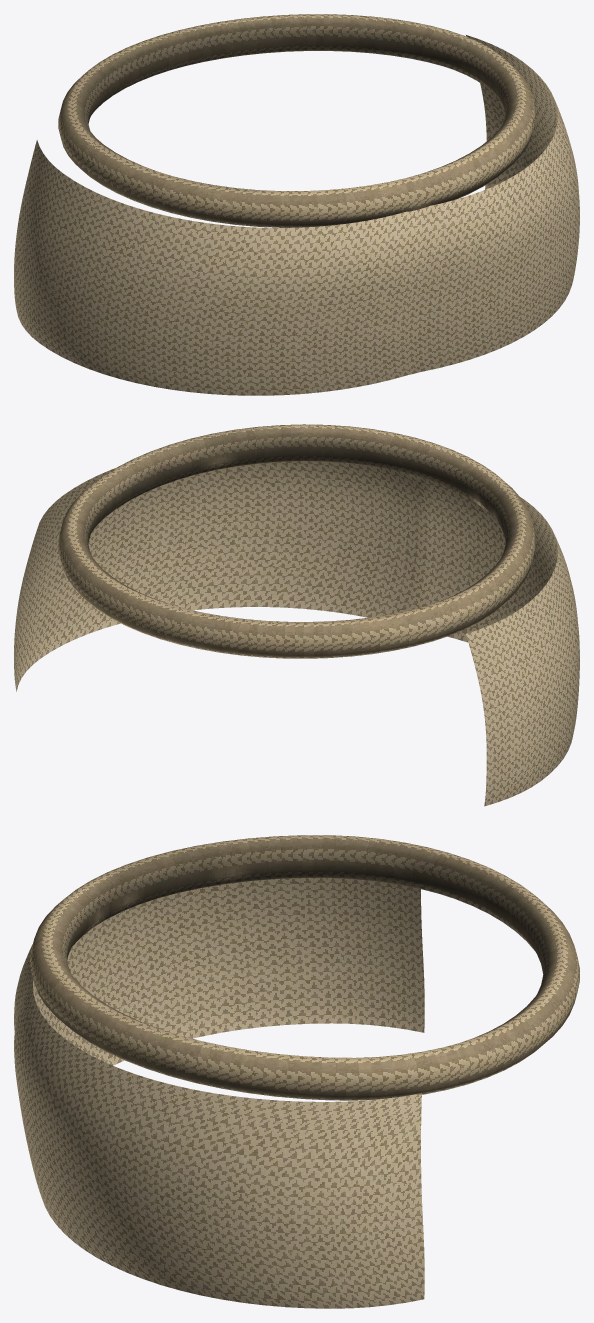
Rendered from sweater.glb.
3 views of the same model, one above another, from view 1: azimuth 30°, elevation 25°; view 2: azimuth 150°, elevation 25°; view 3: azimuth 270°, elevation 25° (orthographic). The views are drawn at different scales.
Visible parts, largest first — view 1: sweater_body, sweater_collar; view 2: sweater_body, sweater_collar; view 3: sweater_body, sweater_collar.
Part boxes in pixels (x1,y1,x2,y2): sweater_body: (14, 35, 579, 395); sweater_collar: (58, 14, 535, 227); sweater_body: (14, 461, 579, 806); sweater_collar: (58, 424, 535, 658); sweater_body: (14, 878, 424, 1308); sweater_collar: (30, 835, 579, 1100).
Bounding box in the file's own units: 32.39 × 11.85 × 26.87.
Materials: 1 (1 with a texture image).
